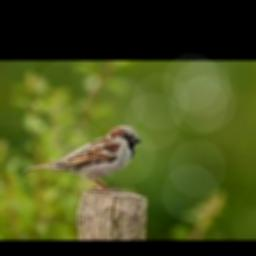Sparrow: (23, 125, 142, 191)
